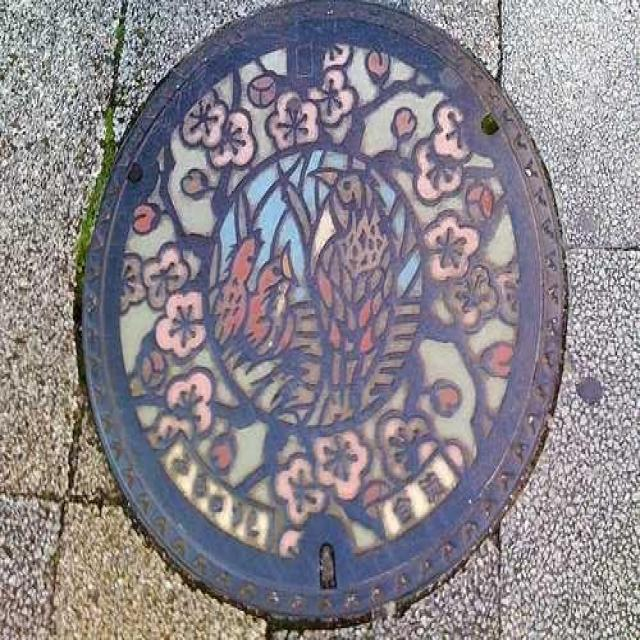manhole: (82, 3, 565, 622)
